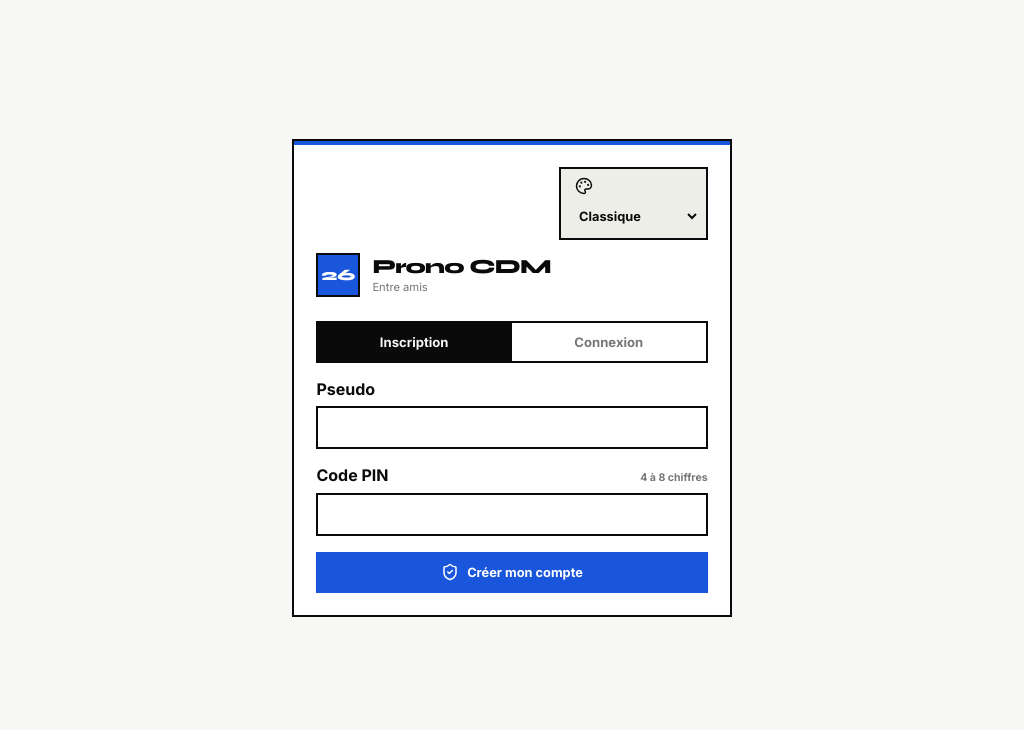
Test: App components › enables email notifications from the profile setup screen
The image size is (1024, 730).
Check: the button "Inscription" is shown, box [318,323,512,361]
Type "Romain" into the field labelled "Pseudo" at (512, 428), box [316,406,708,449]
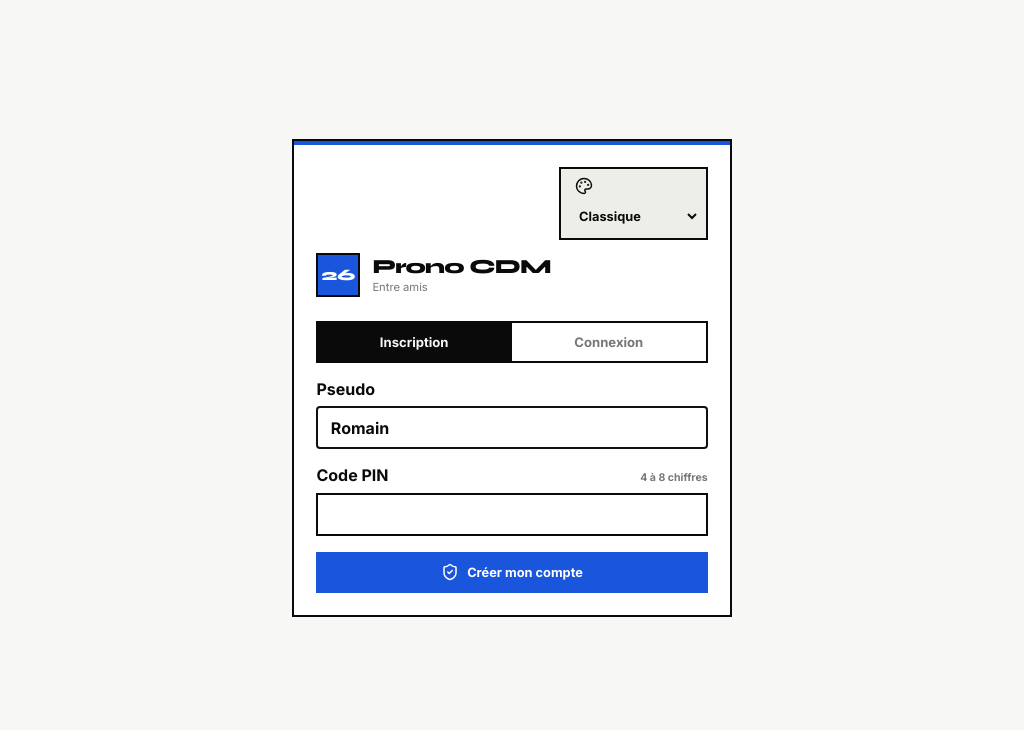
Type "1234" into the password field labelled "Code PIN 4 à 8 chiffres" at (512, 514), box [316,493,708,536]
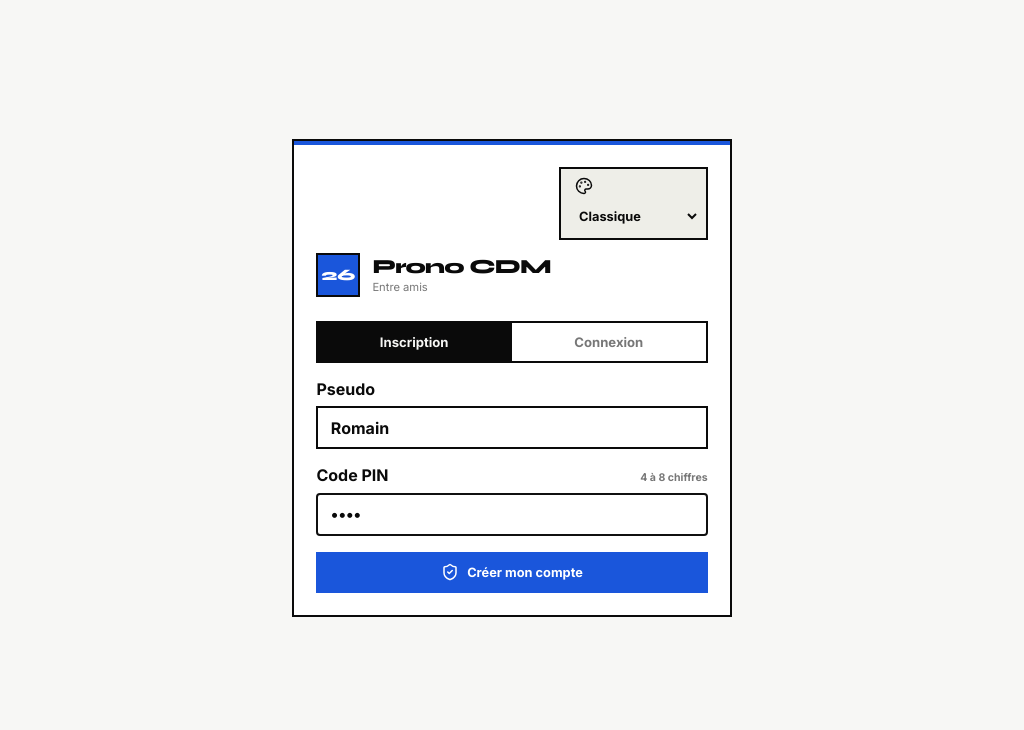
Click the button "Créer mon compte" at (512, 572), box [316,552,708,593]
(page scrolled)
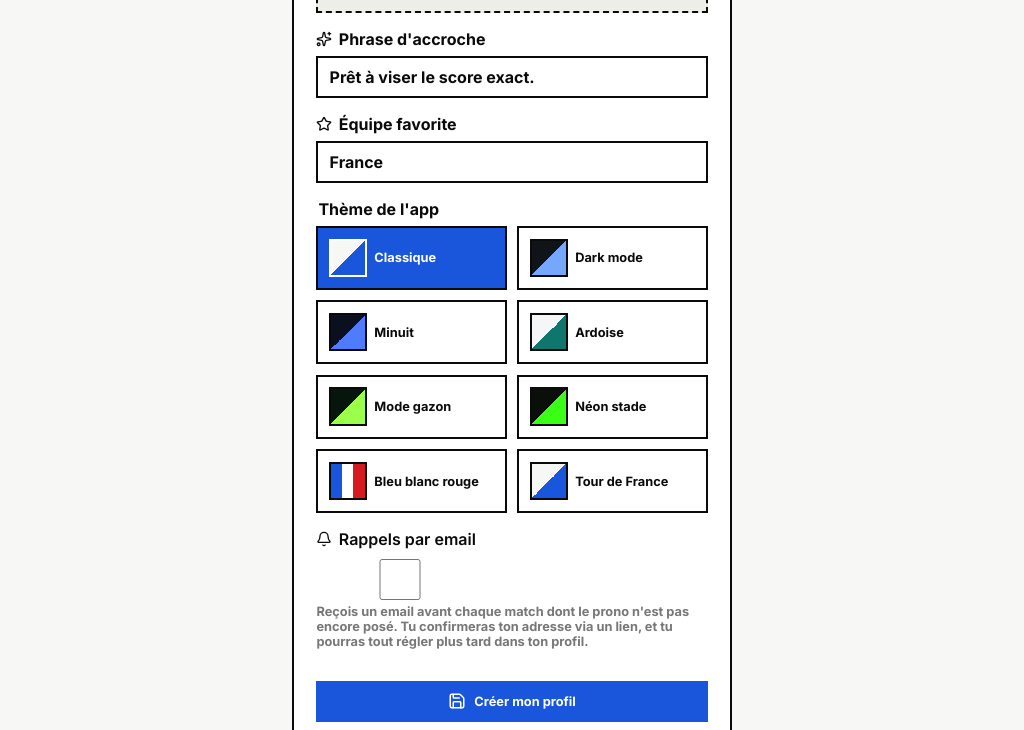
Click the checkbox labelled "Rappels par email" at (400, 580), box [320,559,480,600]
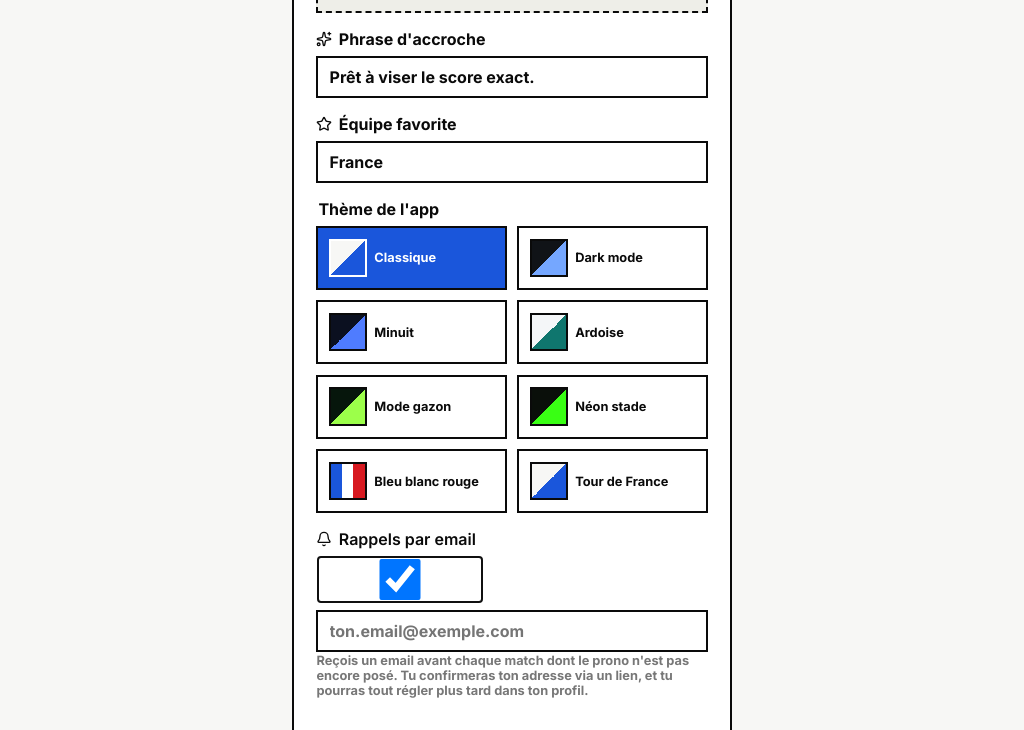
Type "joueur@example.com" into the field named "adresse email pour les rappels" at (512, 631), box [316,610,708,652]
(page scrolled)
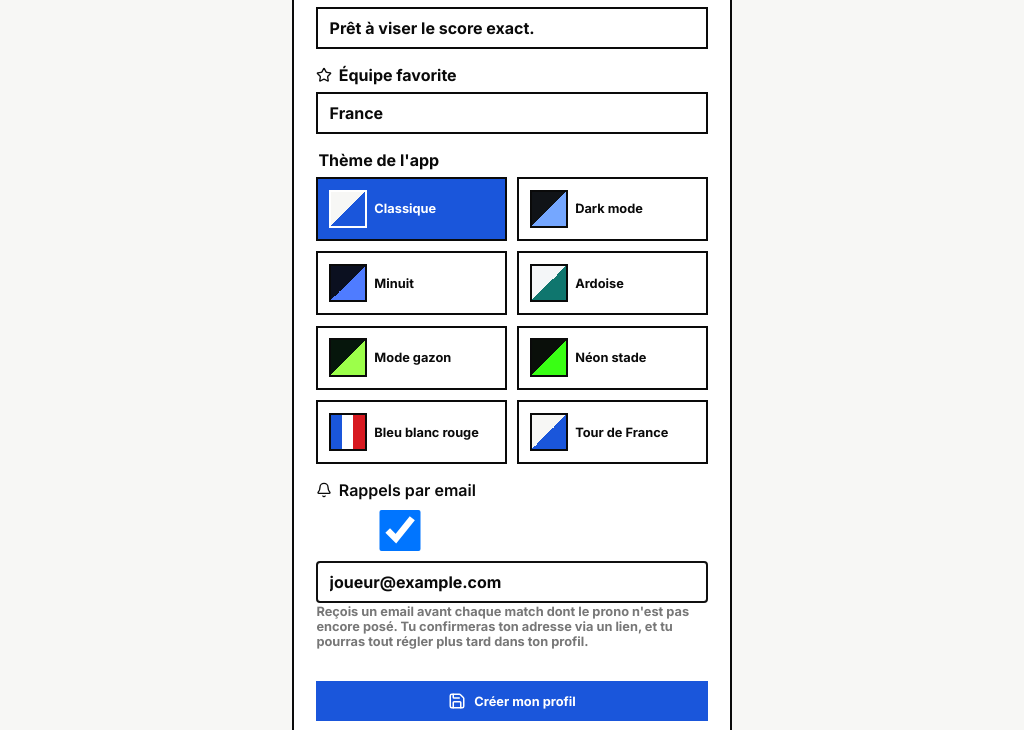
Click the button "Créer mon profil" at (512, 701), box [316,681,708,721]
(page scrolled)
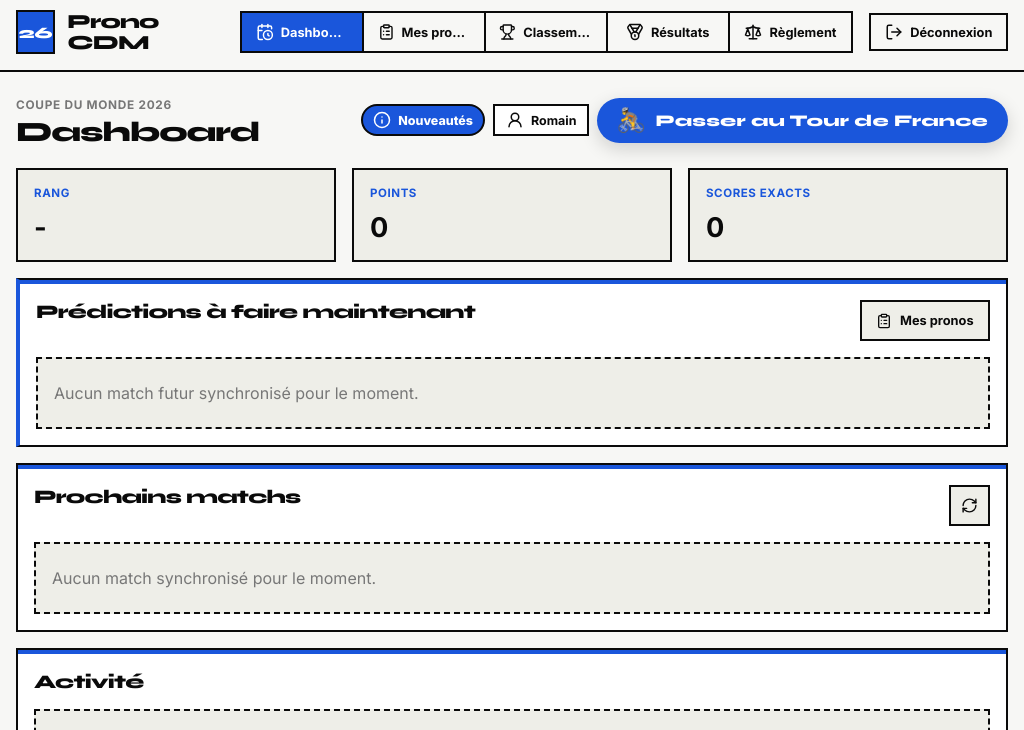
Check: the heading "Dashboard" is shown, box [16,117,259,148]
